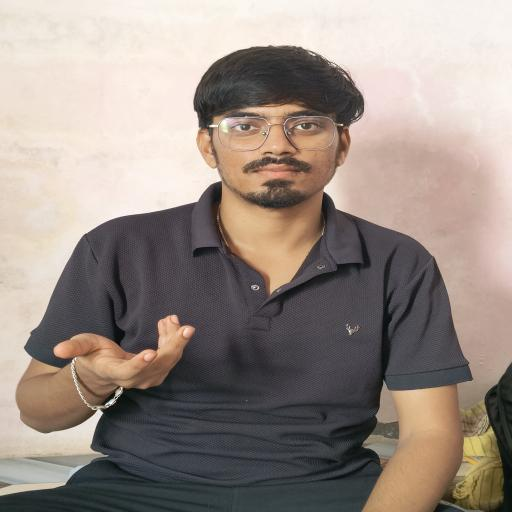Help: (19, 294, 231, 456)
